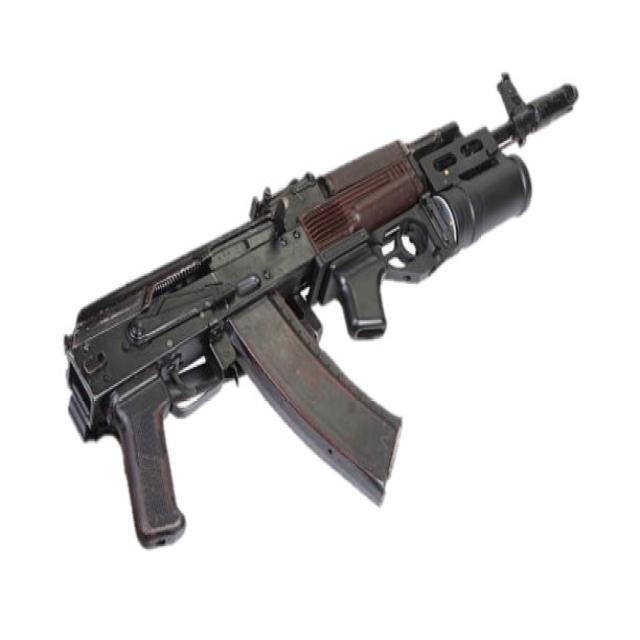rifle: (54, 59, 587, 567)
